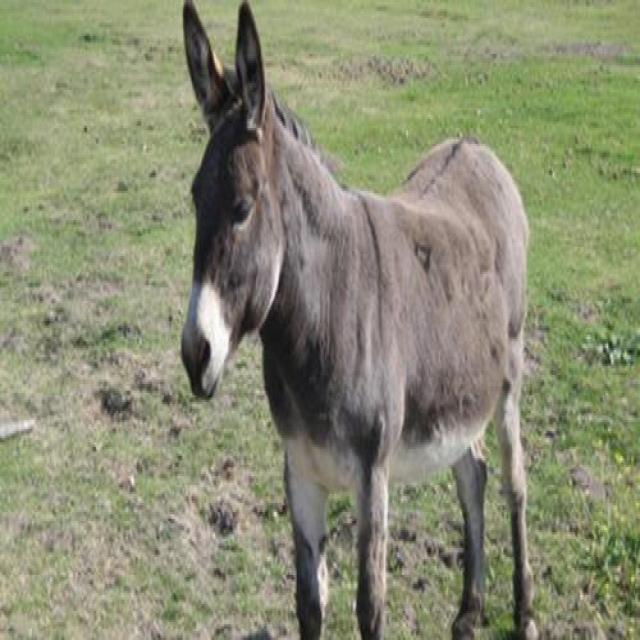Donkey: (180, 2, 540, 640)
